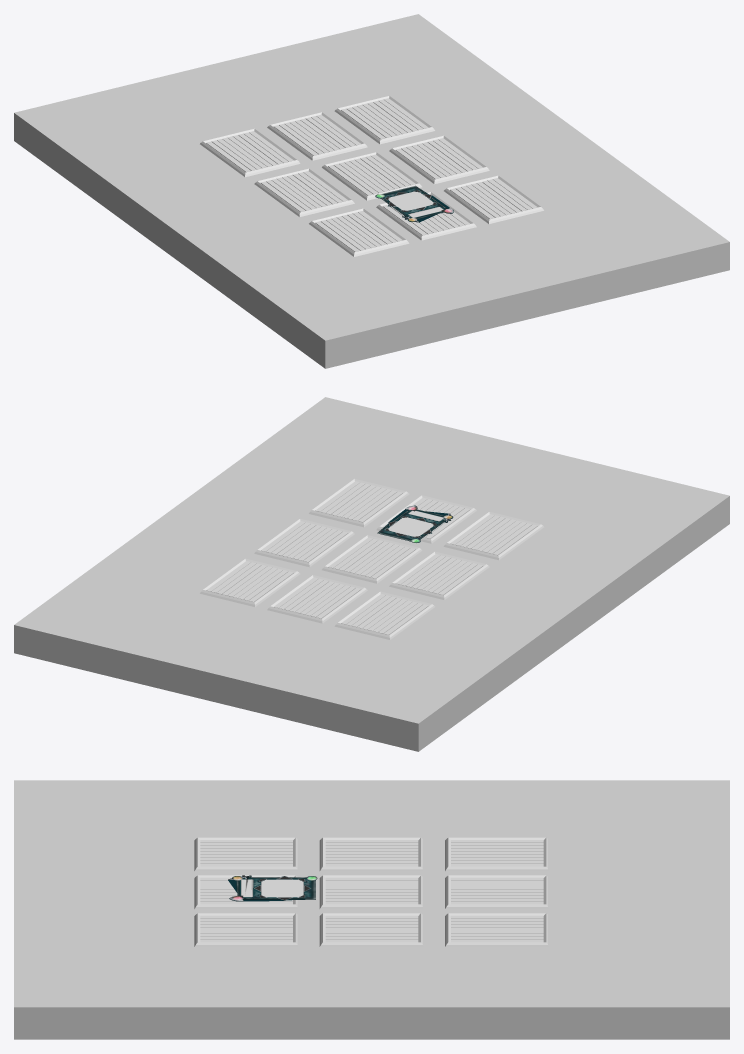
File: CardArena.fbx
3 renders of one model, top to bottom at view 1: azimuth 30°, elevation 25°; view 2: azimuth 150°, elevation 25°; view 3: azimuth 270°, elevation 25°, orthographic. The views are drawn at different scales.
Parts seen in each view (by area): view 1: Cube, Card Slot.003, Card Slot.004, Card Slot.008, Card Slot.007, Card Slot.006, Card Slot.001, Card Slot.002, Card Slot.005, Card Slot, Cube.007; view 2: Cube, Card Slot.003, Card Slot.004, Card Slot.005, Card Slot.001, Card Slot.008, Card Slot.002, Card Slot.007, Card Slot.006, Cube.007, Card Slot; view 3: Cube, Card Slot.004, Card Slot.005, Card Slot.008, Card Slot.001, Card Slot.007, Card Slot.003, Card Slot.002, Card Slot.006, Card Slot, Cube.007.
Boxes of the visible parts, x1=… form: Cube: x1=14, y1=14, x2=729, y2=368; Card Slot.003: x1=389, y1=135, x2=489, y2=184; Card Slot.004: x1=254, y1=168, x2=354, y2=217; Card Slot.008: x1=267, y1=112, x2=367, y2=160; Card Slot.007: x1=200, y1=128, x2=300, y2=177; Card Slot.006: x1=334, y1=96, x2=434, y2=144; Card Slot.001: x1=309, y1=208, x2=409, y2=256; Card Slot.002: x1=444, y1=175, x2=543, y2=223; Card Slot.005: x1=322, y1=152, x2=421, y2=200; Card Slot: x1=376, y1=192, x2=476, y2=240; Cube.007: x1=375, y1=185, x2=453, y2=222; Cube: x1=14, y1=397, x2=729, y2=751; Card Slot.003: x1=254, y1=518, x2=354, y2=567; Card Slot.004: x1=389, y1=551, x2=489, y2=600; Card Slot.005: x1=322, y1=535, x2=421, y2=583; Card Slot.001: x1=443, y1=511, x2=543, y2=560; Card Slot.008: x1=267, y1=575, x2=367, y2=623; Card Slot.002: x1=309, y1=479, x2=409, y2=527; Card Slot.007: x1=334, y1=591, x2=434, y2=639; Card Slot.006: x1=200, y1=558, x2=299, y2=606; Cube.007: x1=377, y1=505, x2=453, y2=542; Card Slot: x1=376, y1=495, x2=476, y2=543; Cube: x1=14, y1=780, x2=729, y2=1039; Card Slot.004: x1=319, y1=837, x2=424, y2=871; Card Slot.005: x1=319, y1=875, x2=424, y2=909; Card Slot.008: x1=445, y1=875, x2=549, y2=909; Card Slot.001: x1=194, y1=837, x2=298, y2=871; Card Slot.007: x1=445, y1=837, x2=549, y2=871; Card Slot.003: x1=319, y1=913, x2=424, y2=946; Card Slot.002: x1=194, y1=913, x2=298, y2=946; Card Slot.006: x1=445, y1=913, x2=549, y2=946; Card Slot: x1=194, y1=875, x2=298, y2=909; Cube.007: x1=228, y1=875, x2=317, y2=901.
Bounding box in the file's own units: 3000 × 234 × 4000.
